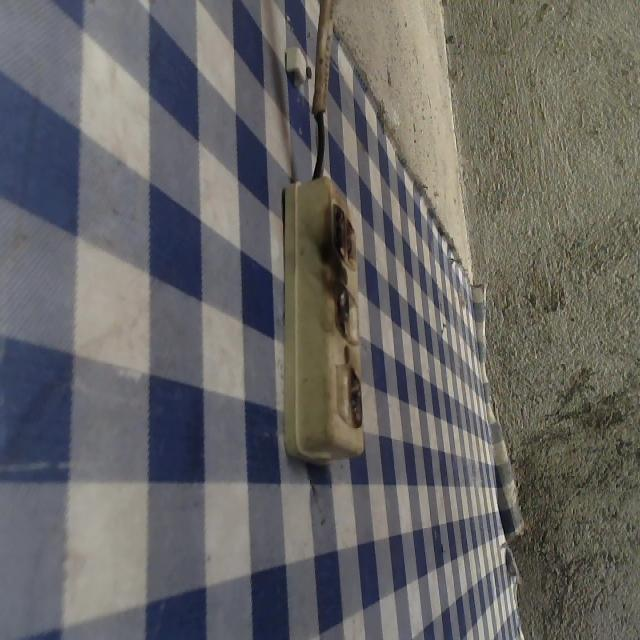-: (322, 193, 362, 272), (326, 278, 357, 346), (347, 356, 367, 436)
